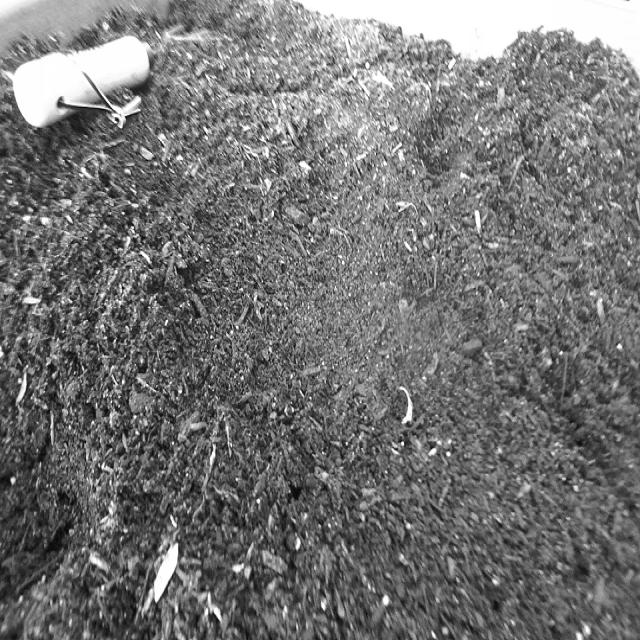Unhealthy: (391, 370, 418, 440)
